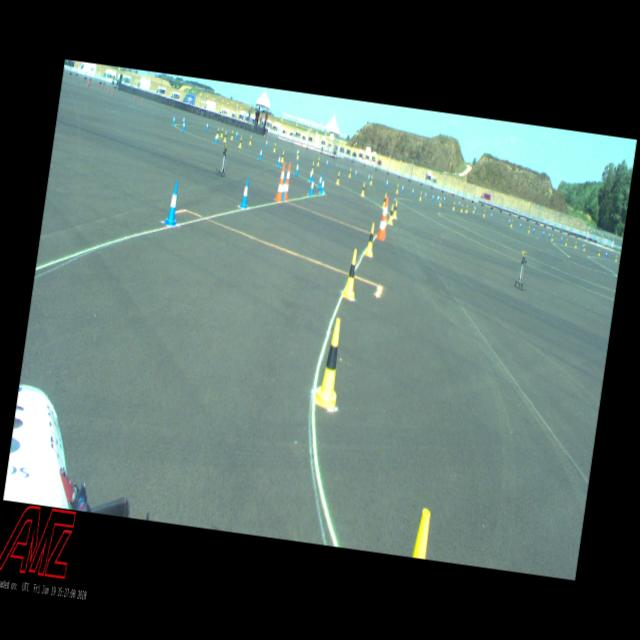blue_cone: (163, 180, 183, 227), (240, 178, 252, 208), (308, 176, 316, 196), (282, 176, 288, 202), (320, 177, 326, 195), (276, 154, 282, 168), (308, 168, 314, 182), (295, 161, 300, 176), (258, 148, 264, 160), (318, 172, 322, 188), (214, 132, 219, 144), (182, 120, 186, 132), (172, 114, 176, 126), (354, 168, 358, 178), (206, 122, 210, 132), (182, 115, 186, 125), (235, 130, 239, 139), (384, 179, 388, 188), (411, 187, 415, 196), (452, 201, 456, 210), (518, 222, 522, 230), (401, 184, 404, 193), (326, 158, 329, 167), (265, 139, 268, 148), (560, 234, 563, 243), (424, 190, 427, 198), (458, 200, 461, 208), (548, 231, 551, 239), (605, 250, 608, 258), (443, 195, 446, 202), (508, 218, 511, 225), (532, 227, 535, 234), (368, 172, 370, 182), (432, 193, 434, 202), (436, 194, 438, 202), (296, 148, 298, 156), (490, 212, 492, 220), (582, 242, 584, 250), (474, 205, 476, 212), (438, 195, 440, 202), (542, 230, 544, 237)
large_orange_cone: (376, 198, 390, 242), (274, 161, 288, 203), (283, 163, 294, 202), (382, 196, 392, 238)
unknown_cone: (87, 80, 90, 88), (141, 97, 144, 104), (108, 86, 110, 94), (113, 89, 115, 96), (134, 94, 136, 101), (102, 84, 104, 90)
yellow_cone: (314, 316, 348, 412), (342, 249, 362, 300), (364, 222, 378, 256), (388, 203, 396, 224), (392, 200, 399, 218), (382, 192, 388, 208), (280, 150, 286, 163), (336, 172, 342, 184), (361, 182, 366, 196), (238, 136, 243, 148), (316, 157, 321, 167), (369, 176, 374, 185), (224, 131, 228, 142), (216, 127, 220, 138), (396, 184, 400, 194), (348, 168, 352, 178), (249, 135, 253, 145), (220, 128, 224, 138), (230, 130, 234, 140), (574, 240, 578, 250), (438, 198, 442, 207), (273, 143, 277, 152), (465, 204, 469, 213), (550, 233, 554, 242), (564, 238, 568, 246), (597, 248, 601, 256), (614, 254, 618, 262), (419, 192, 422, 202), (297, 150, 300, 160), (483, 208, 486, 218), (511, 218, 514, 228), (472, 207, 476, 214), (582, 244, 586, 251), (461, 203, 464, 212), (312, 161, 314, 173), (528, 224, 530, 233)
